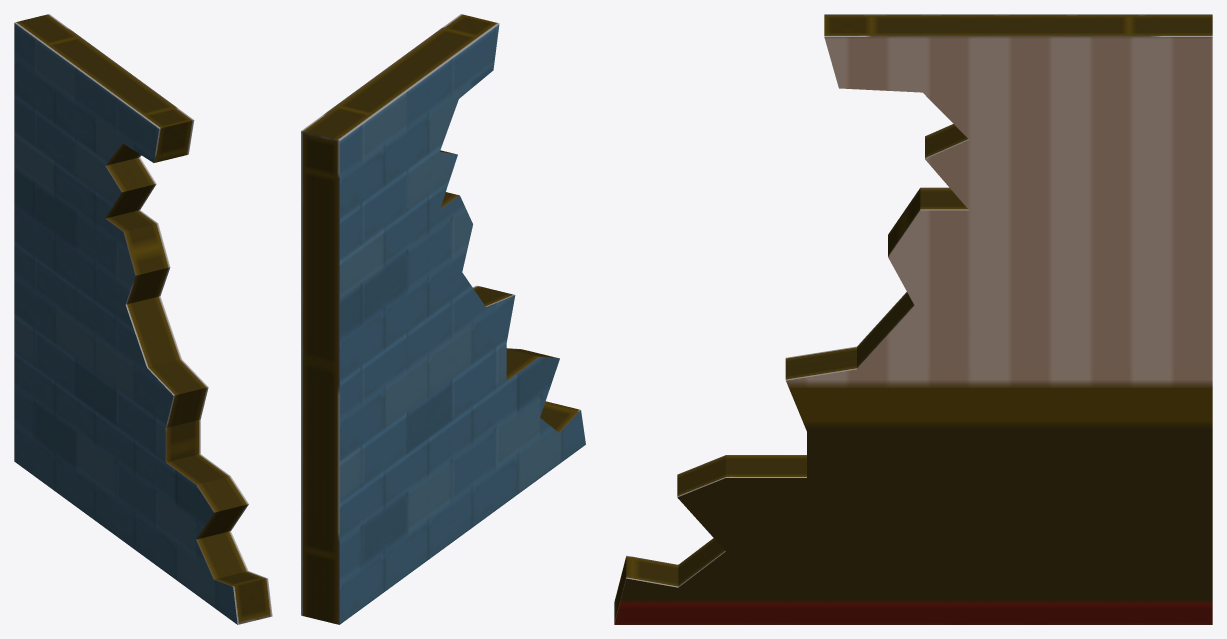
File: Wall_Broken_L_06.fbx
The picture shows the model from 3 angles, left to right: view 1: azimuth 30°, elevation 25°; view 2: azimuth 150°, elevation 25°; view 3: azimuth 270°, elevation 25°; orthographic projection. The views are drawn at different scales.
Parts seen in each view (by area): view 1: Wall_Broken_L_06; view 2: Wall_Broken_L_06; view 3: Wall_Broken_L_06.
Boxes of the visible parts, box(x1,y1,x2,y2) form: Wall_Broken_L_06: box(14, 14, 272, 624); Wall_Broken_L_06: box(301, 14, 585, 624); Wall_Broken_L_06: box(614, 14, 1212, 624).
Bounding box in the file's own units: 50 × 600 × 553.
